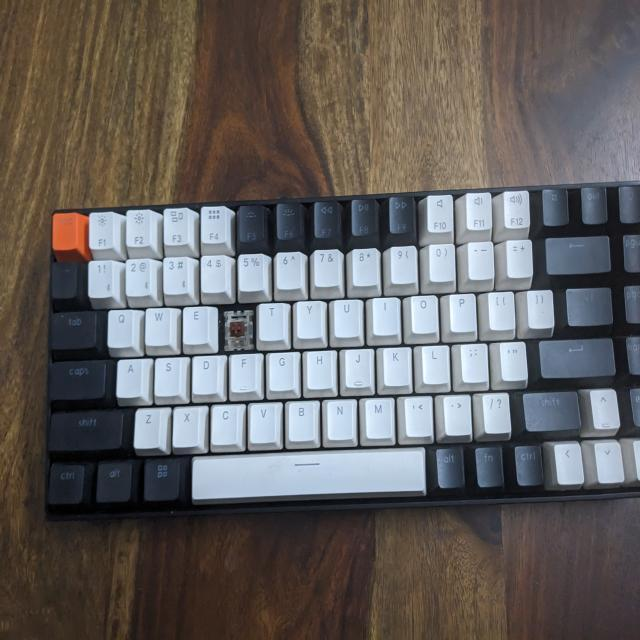key-switch: (224, 313, 250, 346)
